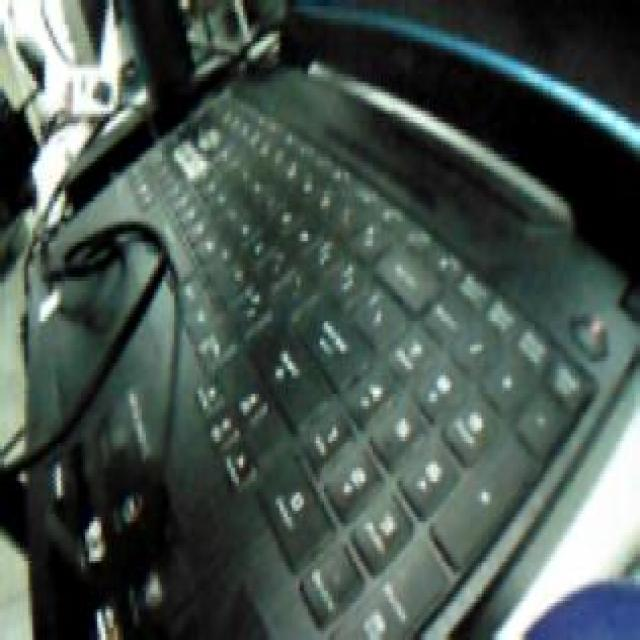BallPurple: (522, 575, 640, 639)
